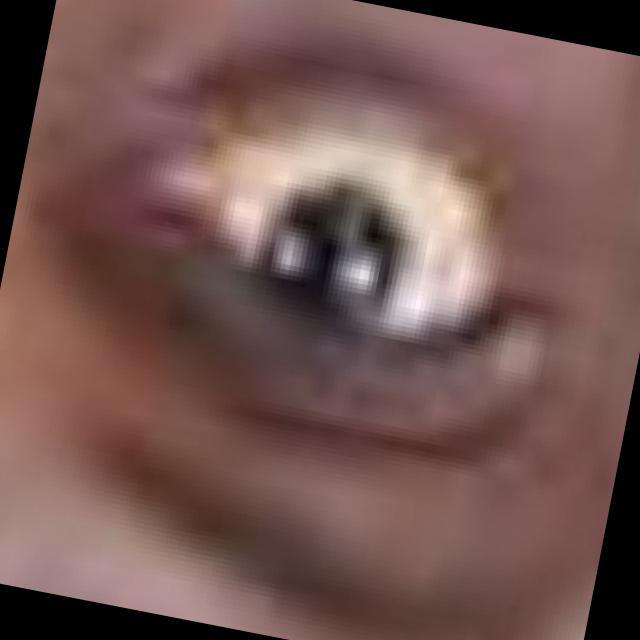Normal: (85, 38, 586, 403)
